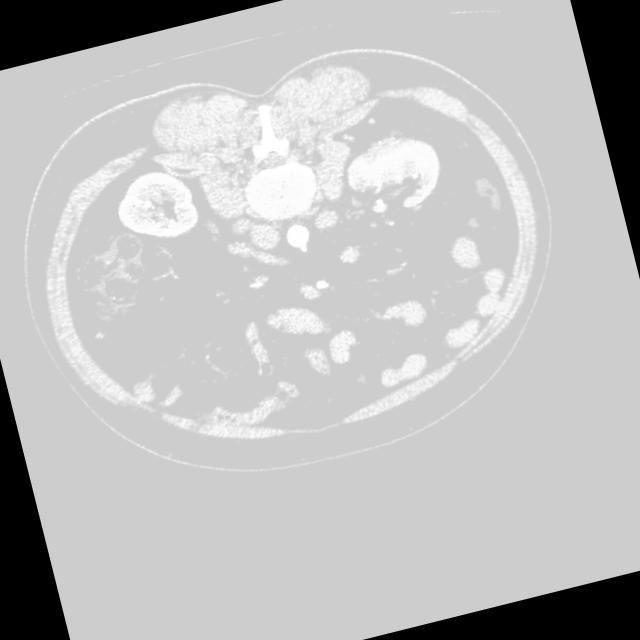TUMOR: (101, 65, 554, 379)
